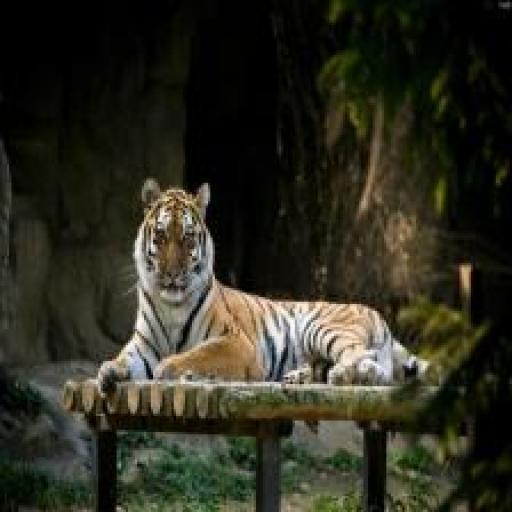Tiger: (62, 137, 468, 462)
